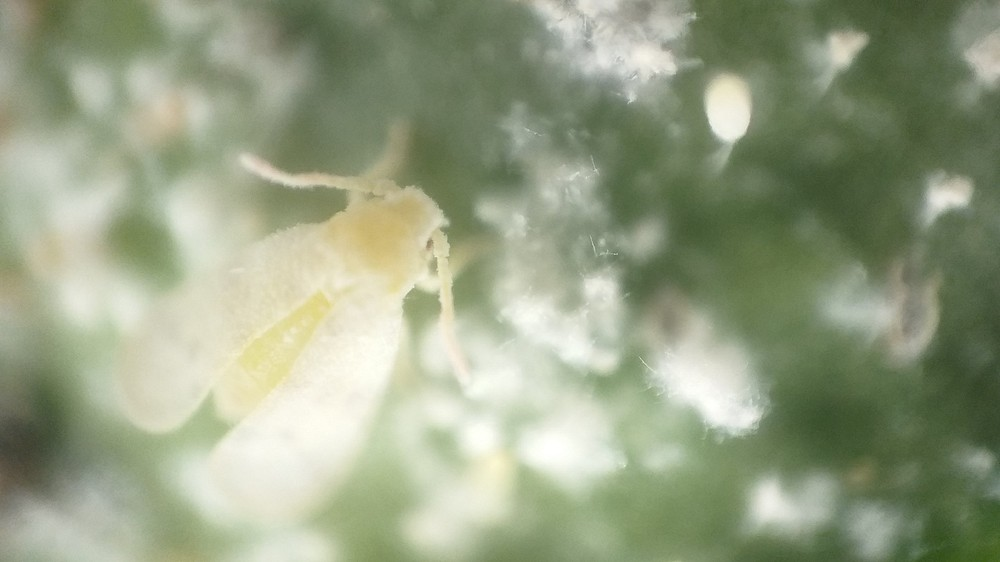Mosca Blanca: (113, 148, 501, 539)
